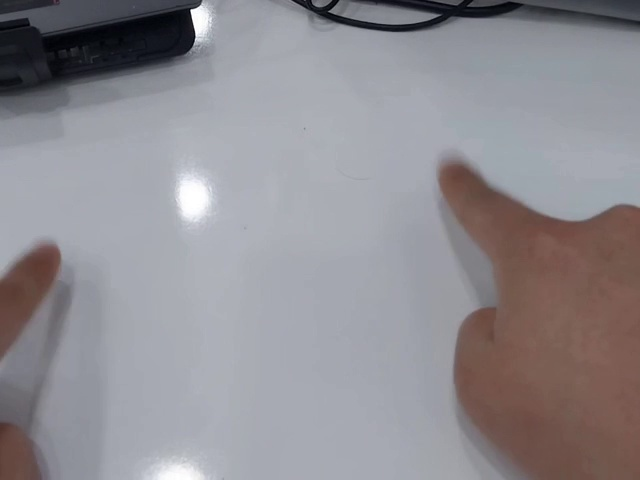fingers: (14, 241, 63, 298), (436, 158, 485, 204)
